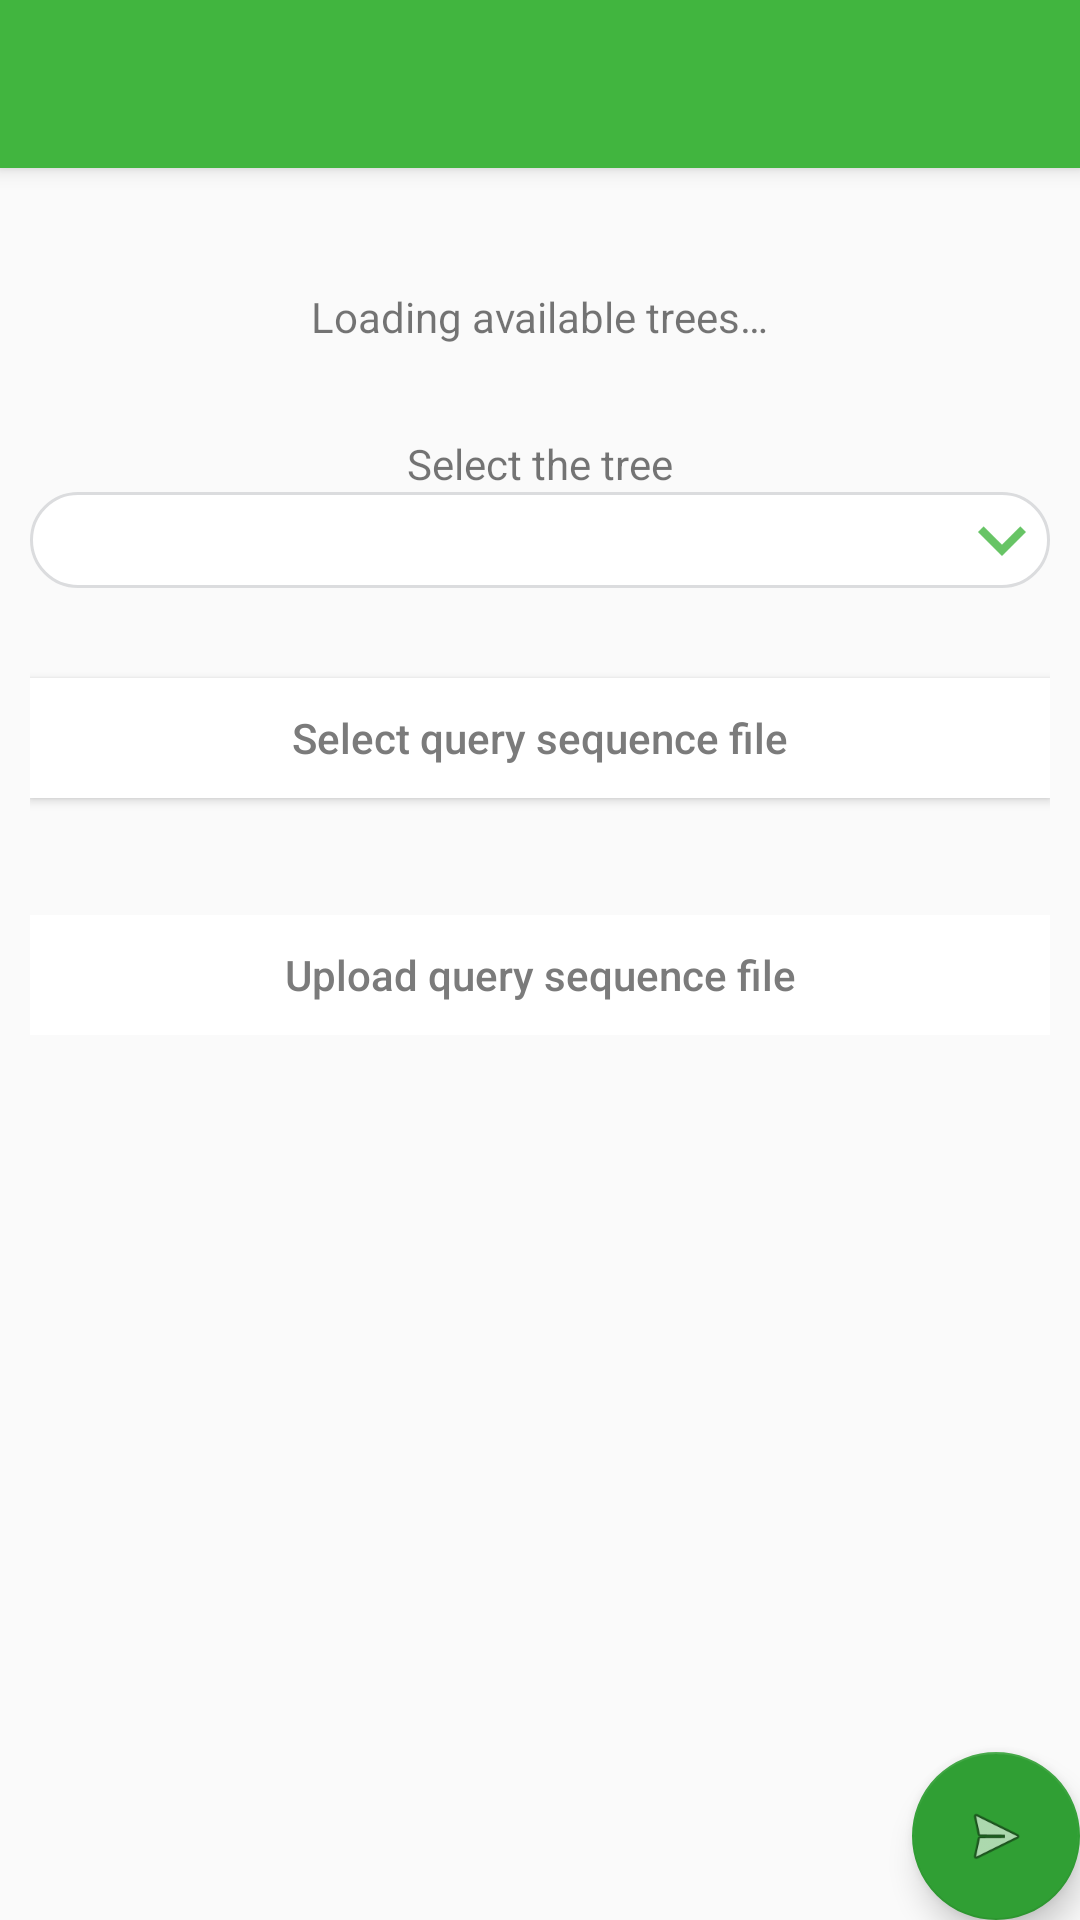

Where icons sit on this 1080*1920 app screen, as (x1, y1, x2, y2):
send: (912, 1752, 1080, 1920)
